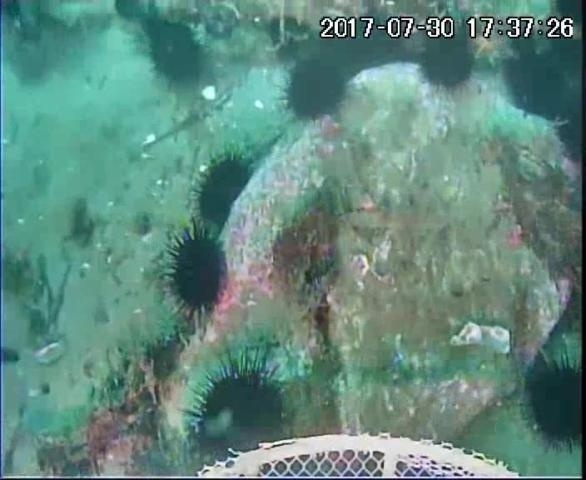echinus: (187, 354, 295, 452), (159, 224, 232, 321), (314, 13, 422, 78), (519, 351, 585, 454), (500, 44, 582, 126), (189, 150, 259, 233), (138, 17, 211, 91), (281, 55, 351, 124), (414, 28, 480, 93), (548, 0, 586, 40)
starfish: (463, 28, 520, 74)
